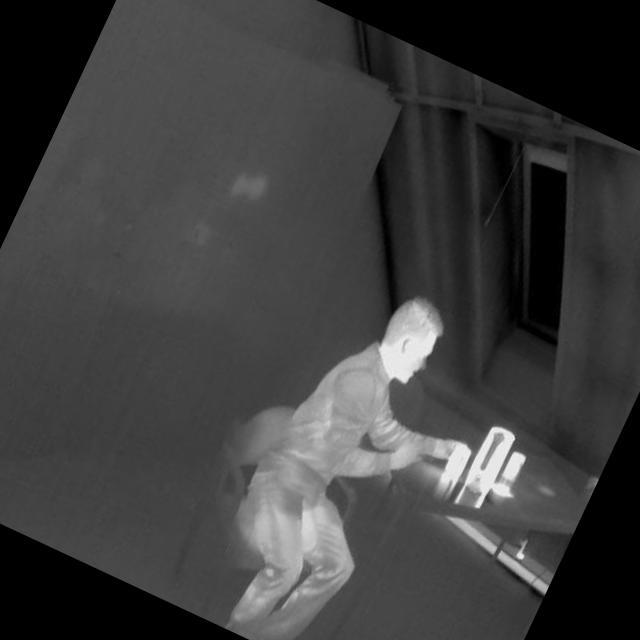person: (179, 259, 494, 640)
